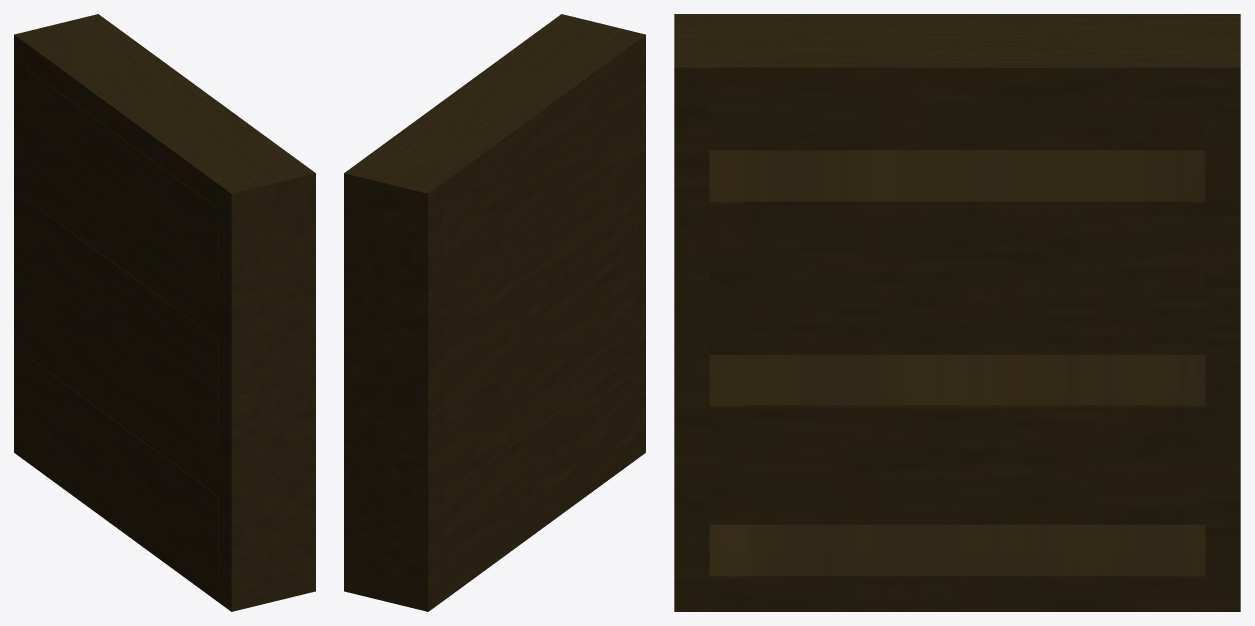
Rendered from bookshelf.fbx.
The picture shows the model from 3 angles, left to right: view 1: azimuth 30°, elevation 25°; view 2: azimuth 150°, elevation 25°; view 3: azimuth 270°, elevation 25°; orthographic projection. The views are drawn at different scales.
Visible parts, largest first — view 1: Cube; view 2: Cube; view 3: Cube.
Boxes of the visible parts, x1,y1,x2,y2 form: Cube: [14, 14, 315, 611]; Cube: [344, 14, 645, 611]; Cube: [674, 14, 1240, 611].
Size of the model in its own units: 45.07 by 212 by 200.
